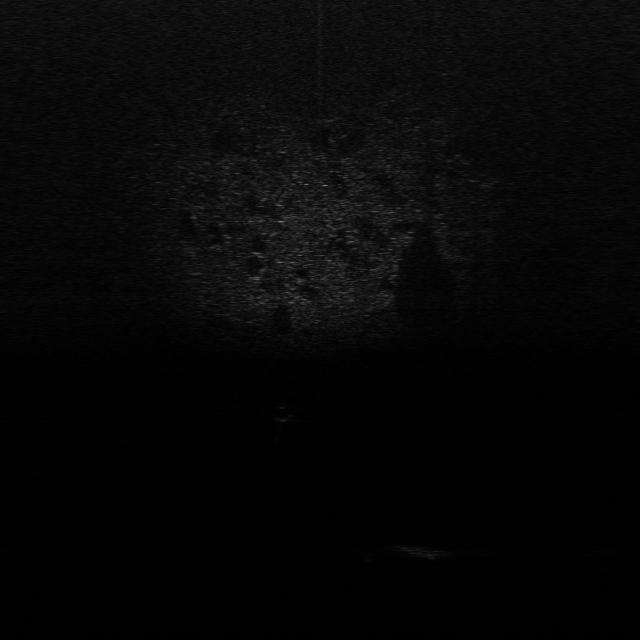ball: (268, 402, 298, 424)
metal bucket: (380, 540, 466, 562)
